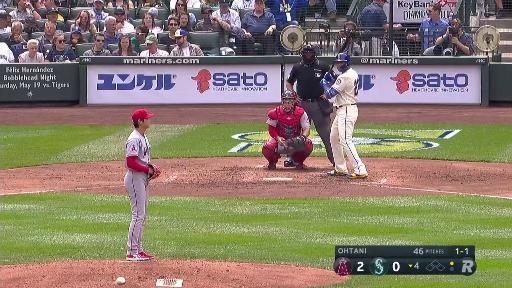pitcher: (124, 108, 162, 262)
